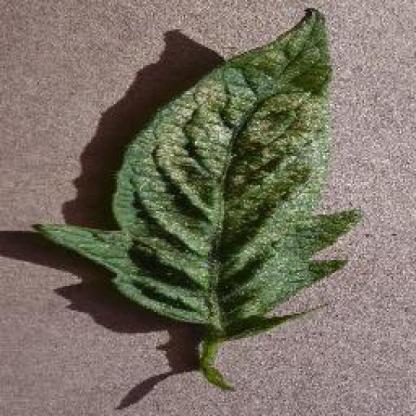Strawberry_Blossom_Blight: (240, 232, 289, 284), (264, 86, 325, 127), (154, 217, 210, 252), (184, 119, 234, 157), (141, 160, 162, 207)
